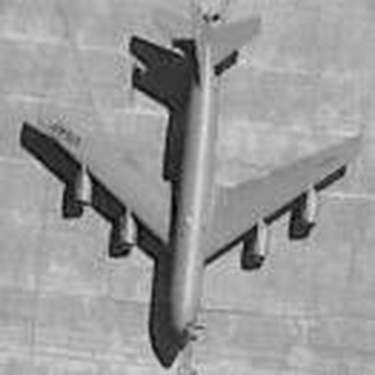airplane: (12, 7, 365, 359)
